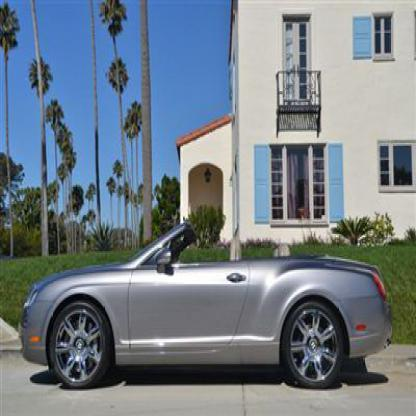Vehicle: (18, 218, 394, 394)
